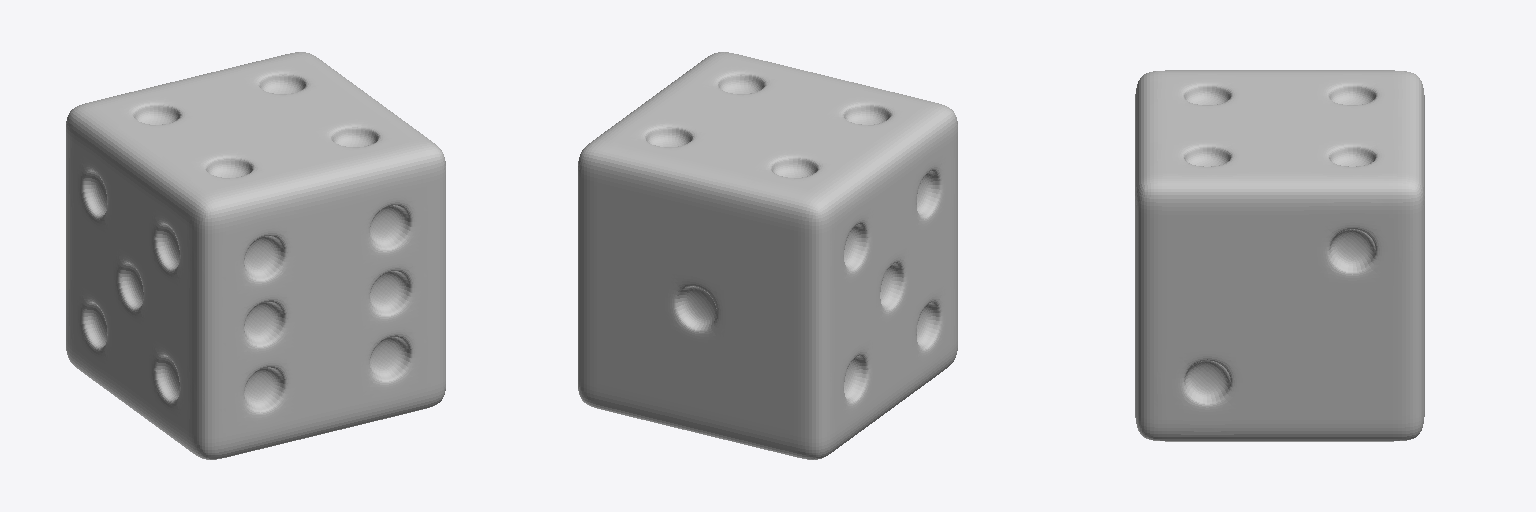
The model's file is dado d6.obj.
3 views of the same model, side by side, from view 1: azimuth 30°, elevation 25°; view 2: azimuth 150°, elevation 25°; view 3: azimuth 270°, elevation 25° (orthographic).
Visible parts, largest first — view 1: Cube; view 2: Cube; view 3: Cube.
Part boxes in pixels (left/top/right/bottom): Cube: left=66, top=52, right=445, bottom=459; Cube: left=578, top=52, right=957, bottom=459; Cube: left=1135, top=70, right=1424, bottom=441.
Bounding box in the file's own units: 2 × 2 × 2.